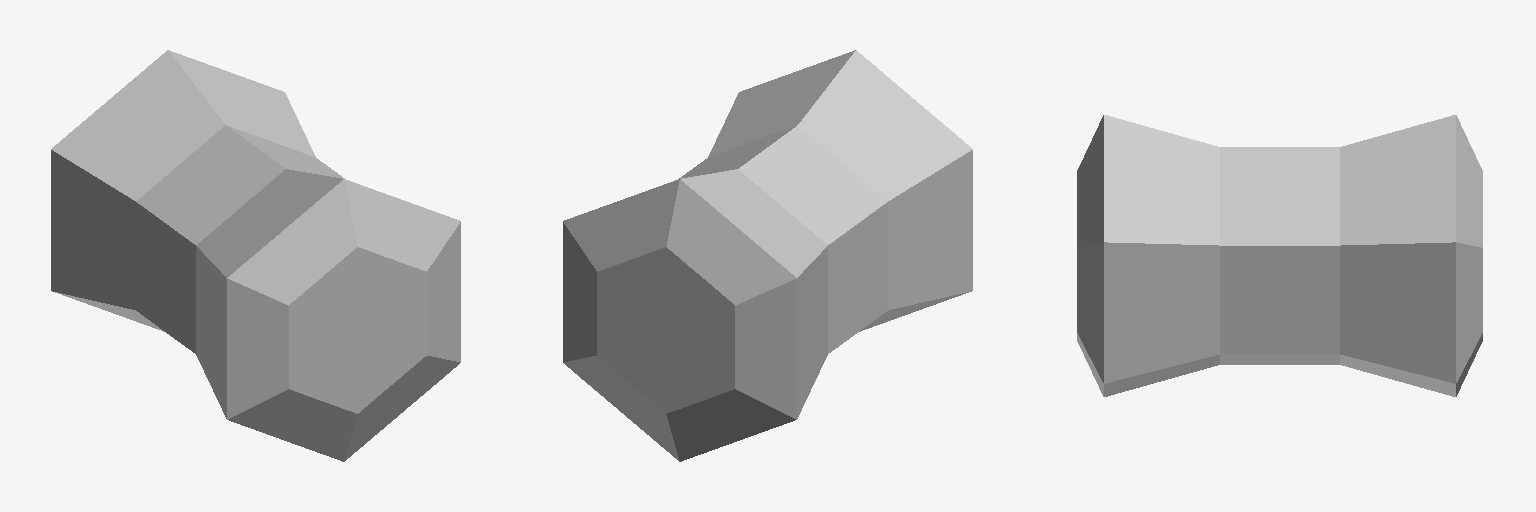
Rendered from Door Knob.obj.
The picture shows the model from 3 angles: view 1: azimuth 30°, elevation 25°; view 2: azimuth 150°, elevation 25°; view 3: azimuth 270°, elevation 25°; orthographic projection.
Visible parts, largest first — view 1: Door.001; view 2: Door.001; view 3: Door.001.
Part boxes in pixels (x1,y1,x2,y2): Door.001: (51,50,460,461); Door.001: (563,50,972,461); Door.001: (1077,115,1482,396).
Size of the model in its own units: 0.097 by 0.112 by 0.1459.